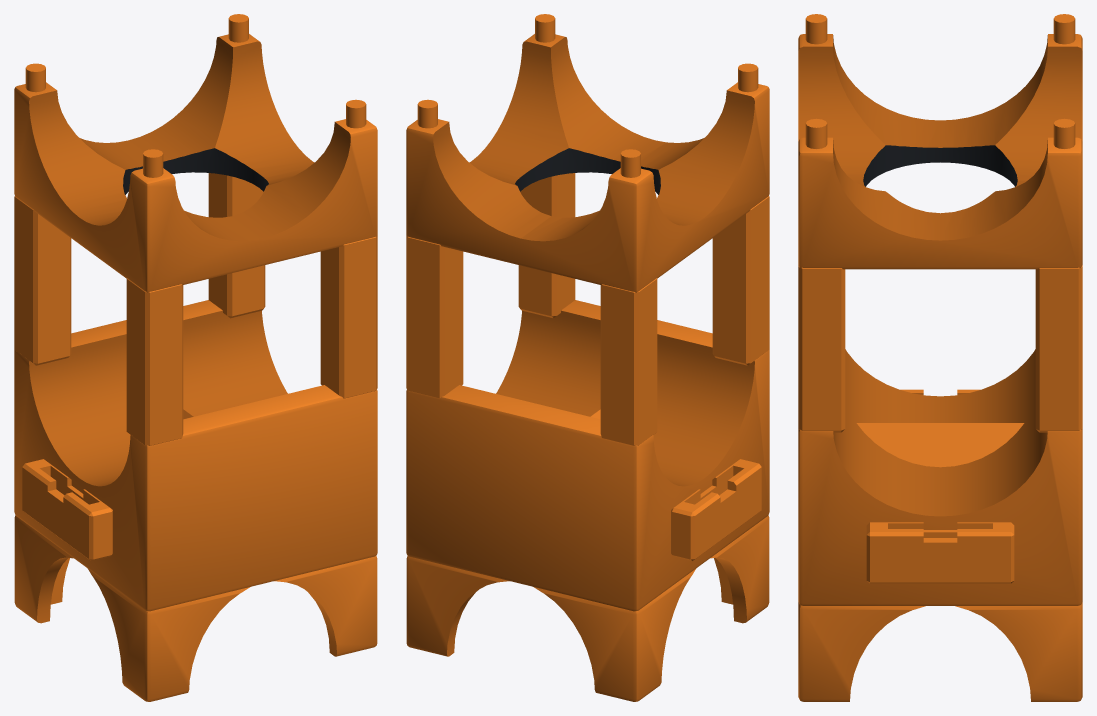
3 views of the same model, side by side, from view 1: azimuth 30°, elevation 25°; view 2: azimuth 150°, elevation 25°; view 3: azimuth 270°, elevation 25° (orthographic). The views are drawn at different scales.
Parts seen in each view (by area): view 1: M-04__5422; view 2: M-04__5422; view 3: M-04__5422.
Part boxes in pixels (x1,y1,x2,y2): M-04__5422: [14, 14, 377, 701]; M-04__5422: [406, 14, 769, 701]; M-04__5422: [798, 14, 1082, 701].
Size of the model in its own units: 0.0511 by 0.0941 by 0.0423.
